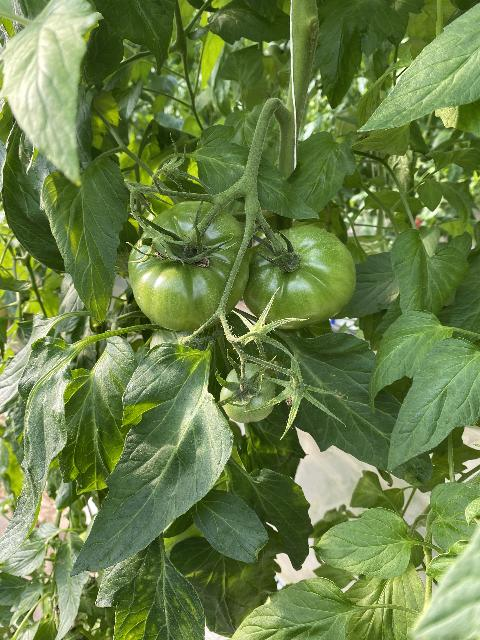b_green: (128, 201, 250, 332), (242, 225, 357, 330), (220, 362, 276, 423)
